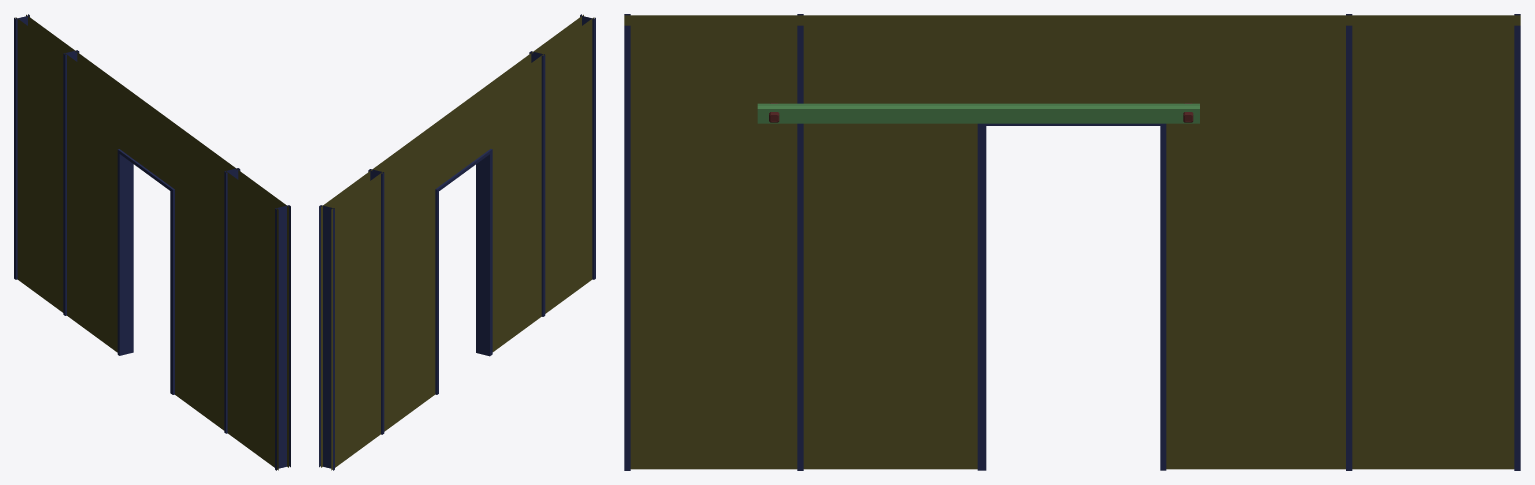
File: staticMesh_prop_SlideDoorwall.fbx
The picture shows the model from 3 angles, left to right: view 1: azimuth 30°, elevation 25°; view 2: azimuth 150°, elevation 25°; view 3: azimuth 270°, elevation 25°; orthographic projection. The views are drawn at different scales.
Parts seen in each view (by area): view 1: polySurface23; view 2: polySurface23; view 3: polySurface23.
Boxes of the visible parts, x1,y1,x2,y2 form: polySurface23: [14, 14, 290, 470]; polySurface23: [319, 14, 595, 470]; polySurface23: [624, 14, 1520, 470].
Size of the model in its own units: 33.9 by 329 by 600.
